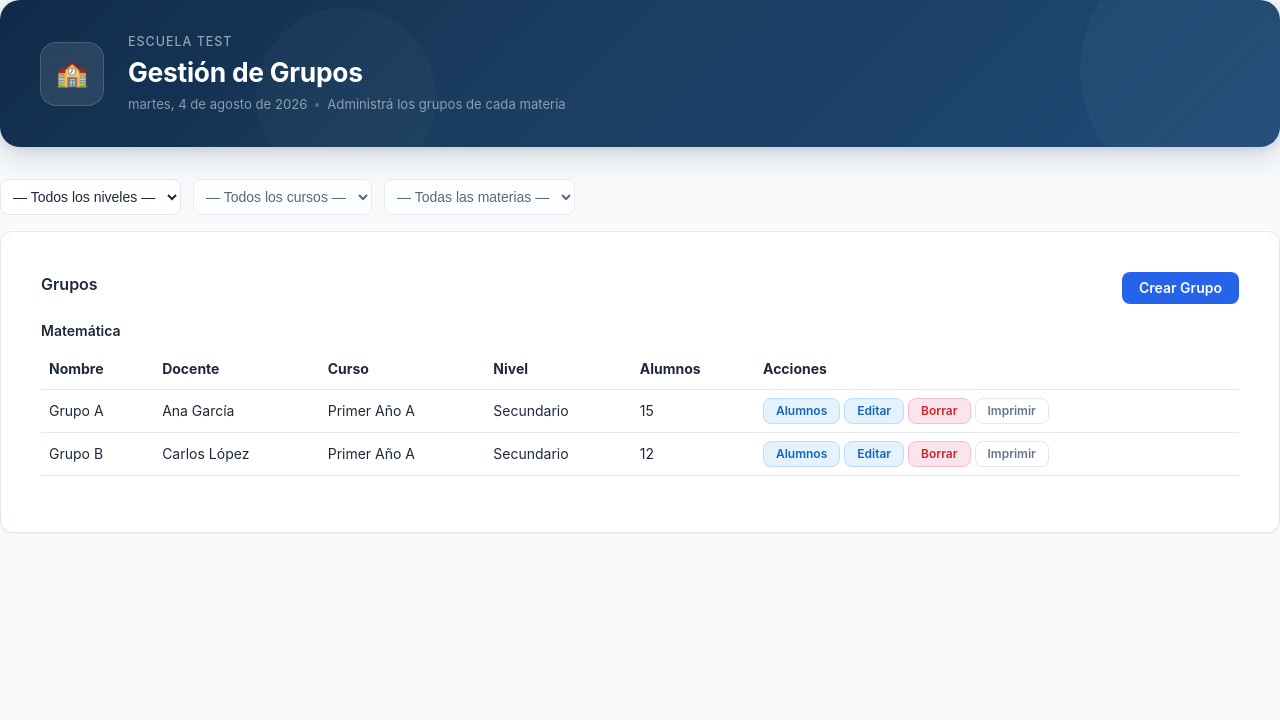
GG — Gestión de Grupos › GG-T5: click Crear abre el formulario
This screenshot has width=1280, height=720.
Expected: the text "Grupo A" is shown, x1=41 y1=389 x2=154 y2=432
What coordinates should you click on to do the following:
click the button with test id "btn-crear-grupo"
I would click on:
 (1180, 288)
Its box is x1=1122 y1=272 x2=1239 y2=304.
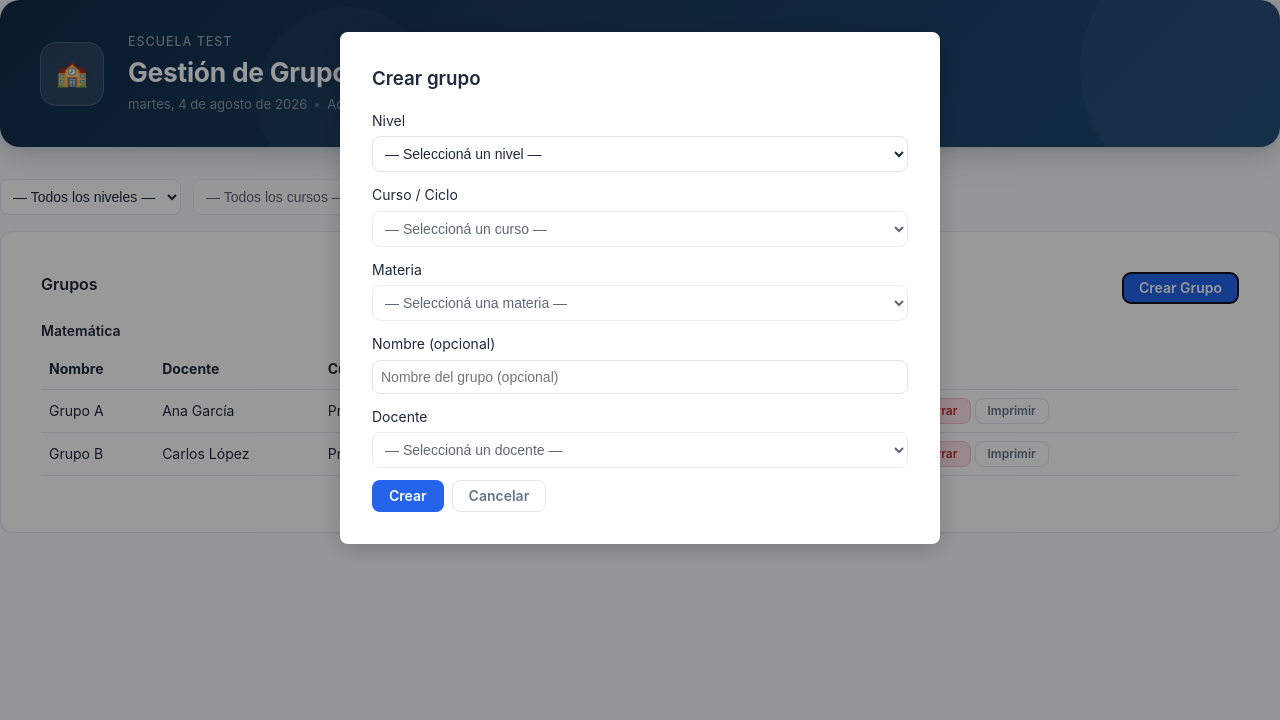
Expected: the element with test id "form-grupo" is shown
